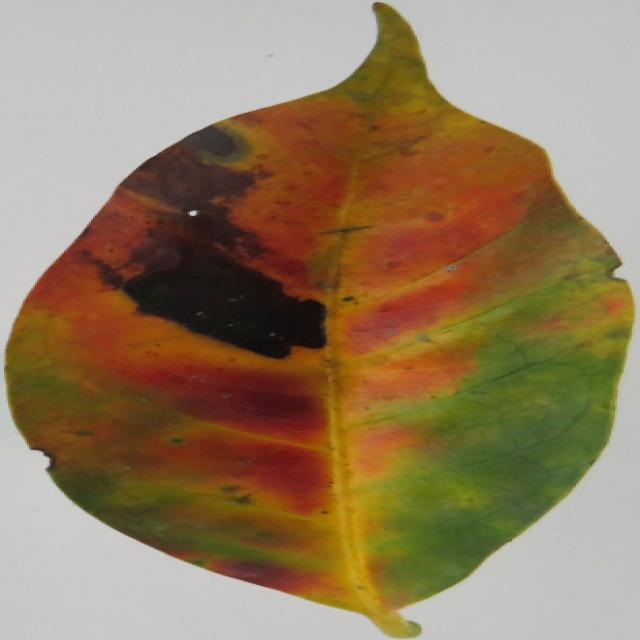DeficienciaNutricional-Fosforo: (8, 4, 631, 638)
